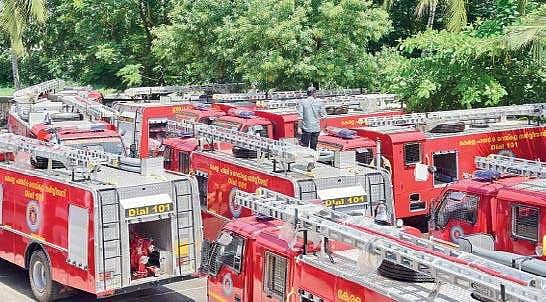Fire-engine: (4, 122, 200, 288), (210, 211, 533, 302), (160, 120, 379, 226), (341, 108, 546, 195), (117, 87, 387, 140), (440, 145, 546, 239), (11, 102, 156, 168)
